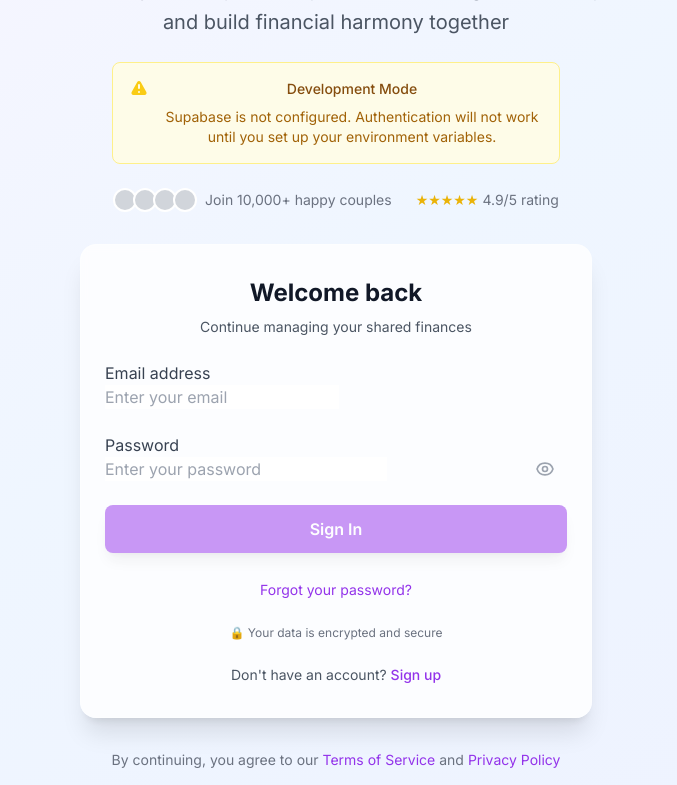
Test case: LoginForm › CRO Elements › shows benefits for signup users
(page scrolled)
Note: Switch to signup mode
Click the button "Sign up". click: (416, 675)
box: [391, 665, 441, 685]
(page scrolled)
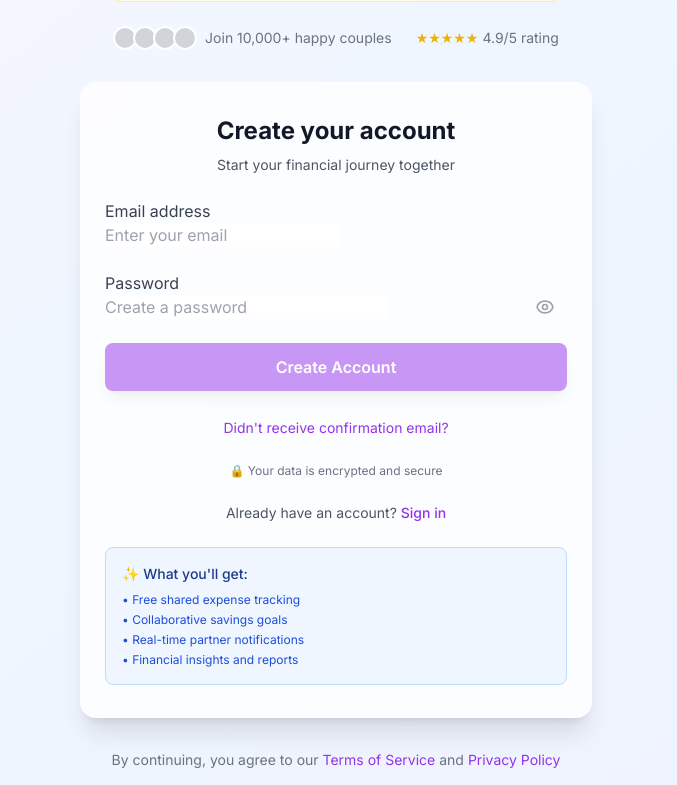
Expected: the heading "✨ What you'll get:" is shown, [122, 565, 248, 582]
Expected: the list item "• Free shared expense tracking" is shown, [122, 592, 300, 607]
Expected: the list item "• Collaborative savings goals" is shown, [122, 612, 288, 627]
